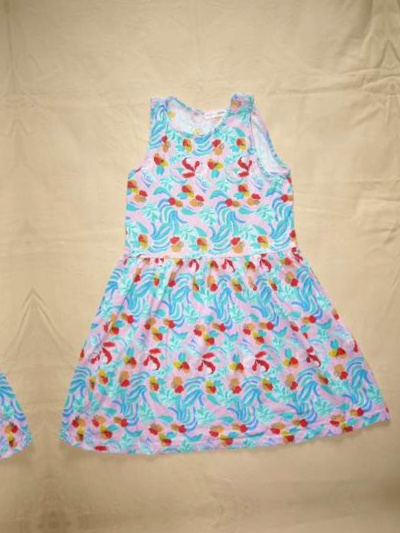Dress: (35, 73, 400, 468), (0, 107, 28, 502)
